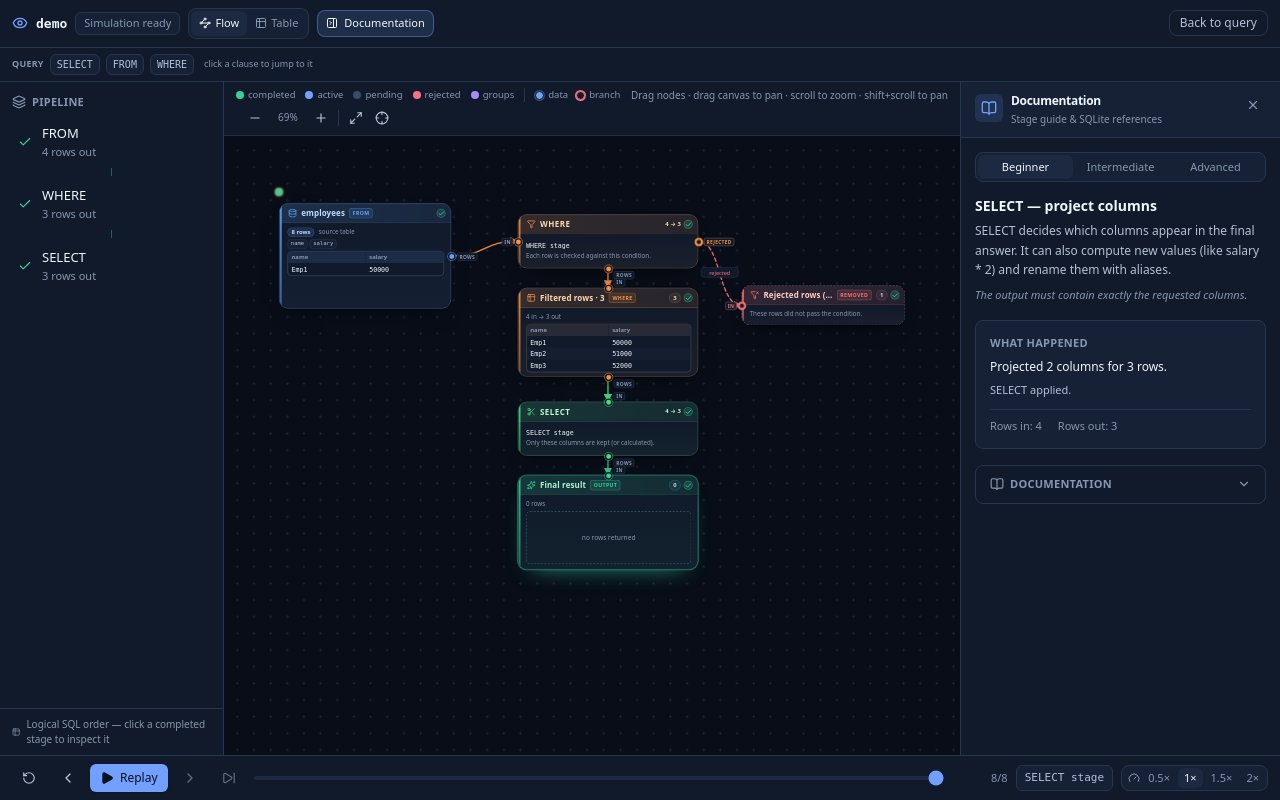
it: ready workspace › pipeline stage selection inspects that stage and seeks to it (Table View)
This screenshot has width=1280, height=800.
Note: Switch to Table View — the inspecting badge lives there.
Click the tab "Table" at (277, 23), box [247,11,306,36]
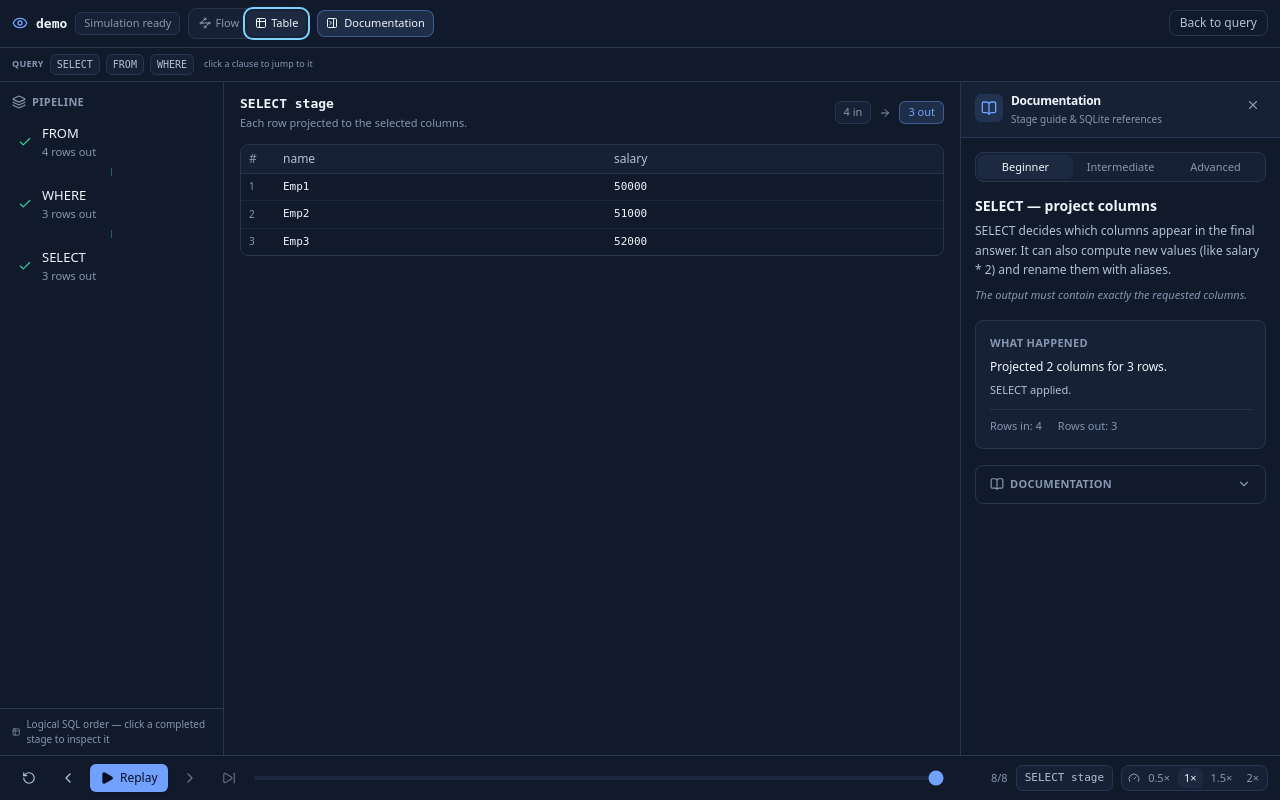
Click the button "WHERE 3 rows out" at (112, 204), box [8,178,215,230]
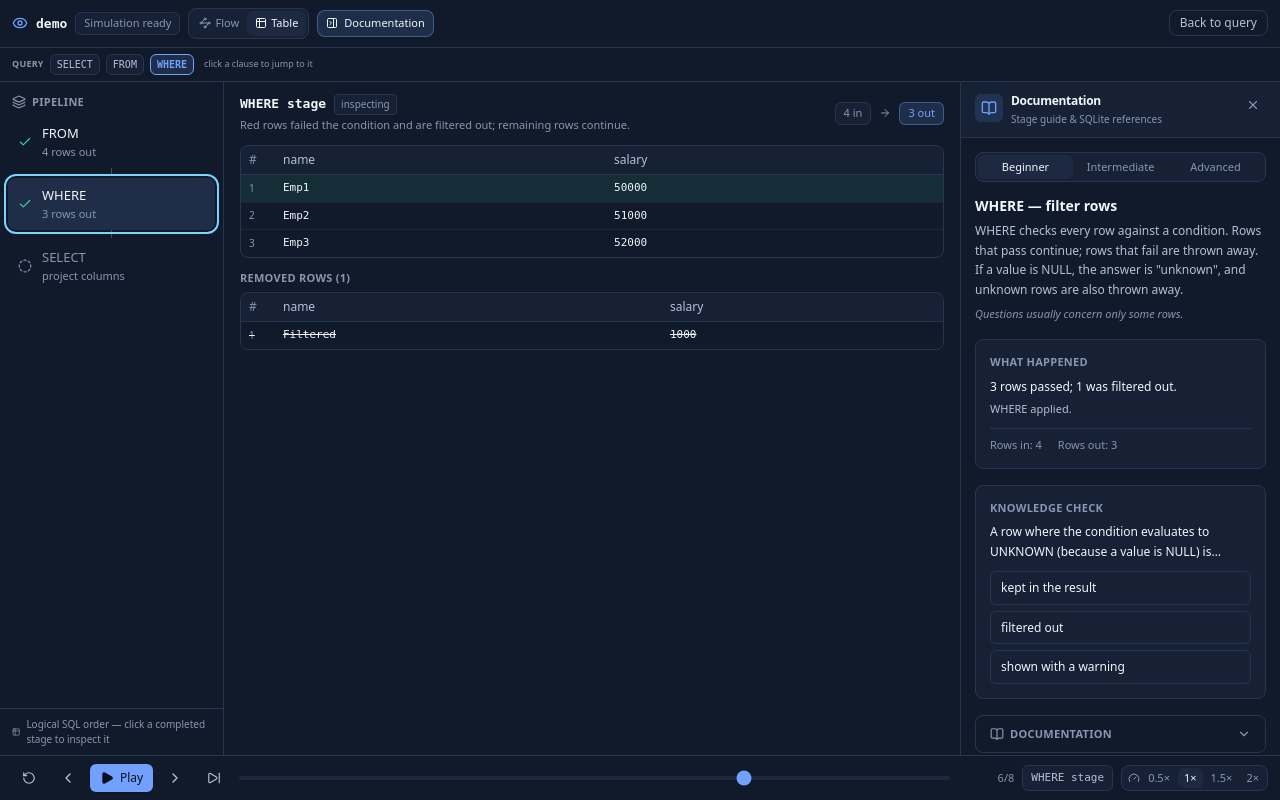
Now the text "inspecting" is shown, box [334,94,397,114]
Now the text "Filtered" is shown, box [273,322,660,349]
